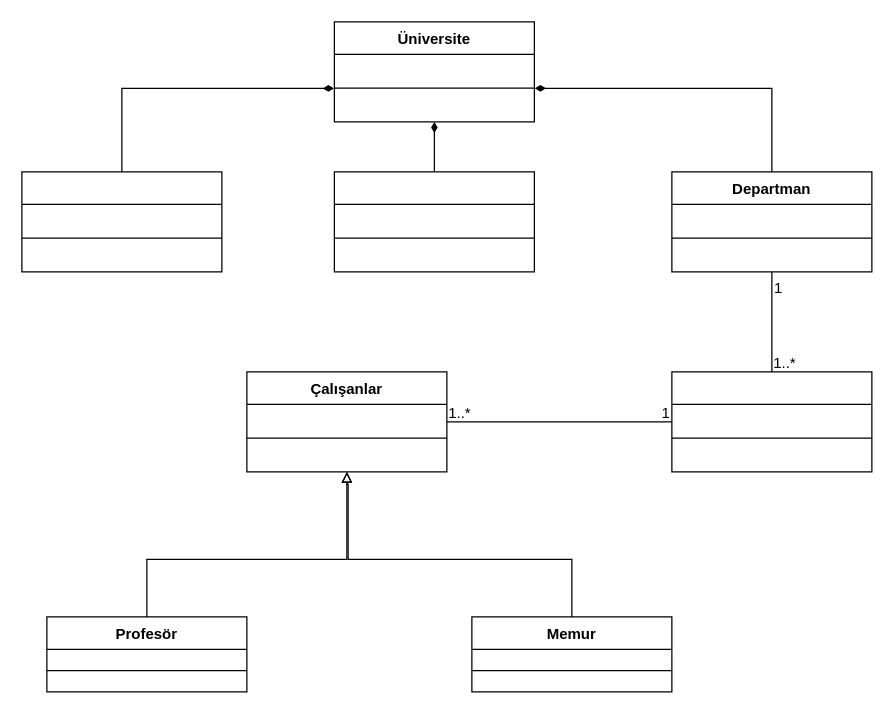
The diagram is 894 pixels wide and 714 high, and some of its shapes have lost their labels. The shapes that lost their labels are listed below. From the top down, each one's centre as x and y in pixels, then its label:
(x=121, y=221): Sınıf
(x=433, y=221): Çalışma Ofisleri
(x=771, y=421): Ofis
